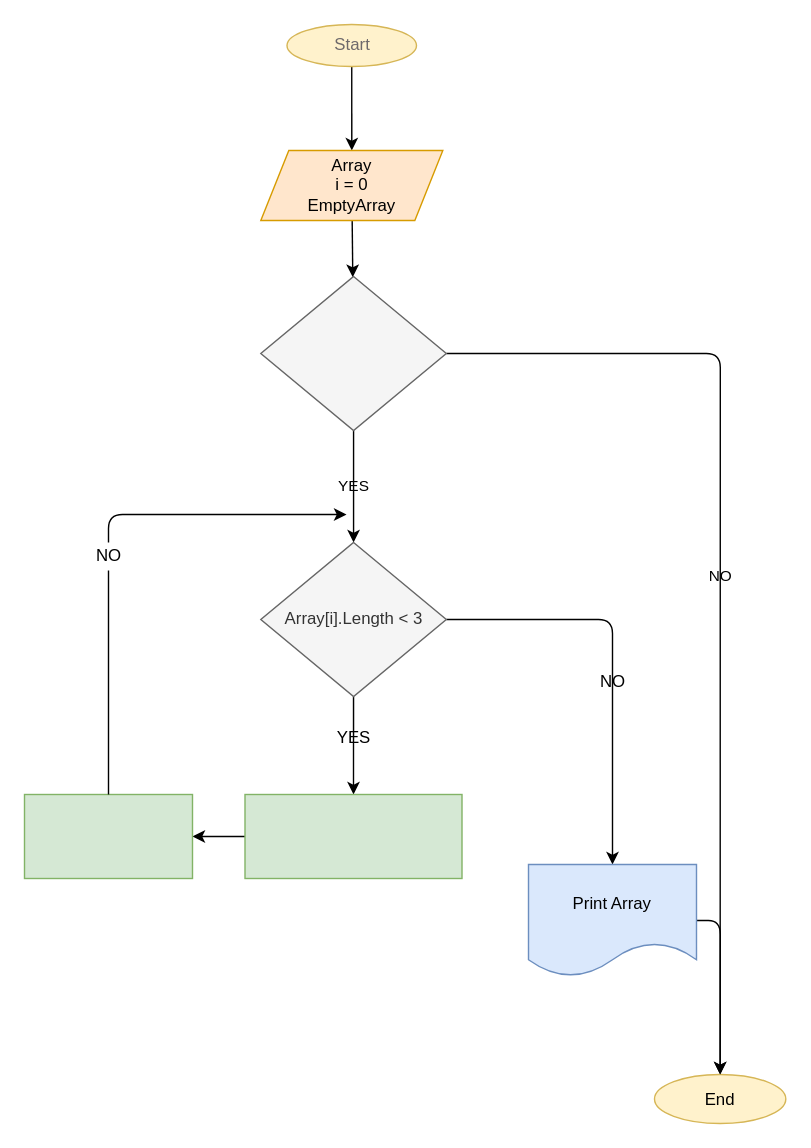
Image size: 811x1148. Some labels were removed from this diagram. The shapes that lost their labels are listed below. From the top down, each one's centre as x and y in pixels, then its label:
At point 352,352: "i < Array.Length".
At point 107,835: "I ++;".
At point 353,835: "EmptyArray += Array[i]".
